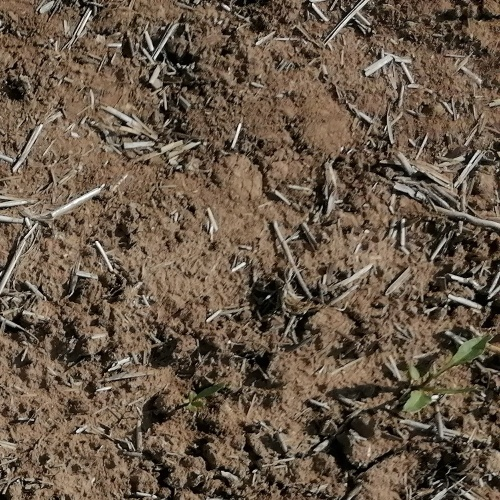beet: (401, 335, 493, 416), (182, 383, 224, 417)
